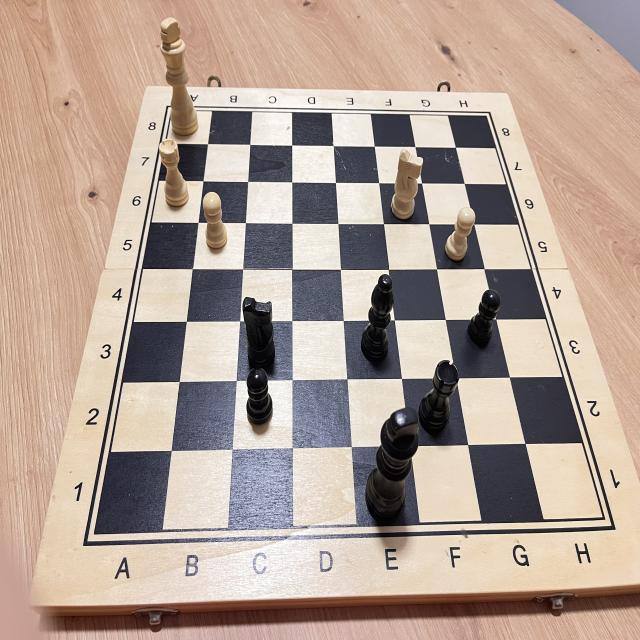black-bishop: (360, 266, 400, 370)
black-king: (361, 396, 429, 536)
black-knight: (238, 289, 279, 375)
black-pawn: (460, 283, 507, 361), (240, 360, 280, 434)
black-rook: (415, 351, 461, 441)
white-king: (156, 11, 204, 141)
white-knight: (384, 139, 429, 230)
white-pawn: (196, 187, 235, 256), (441, 203, 479, 265)
white-rook: (155, 131, 190, 209)
